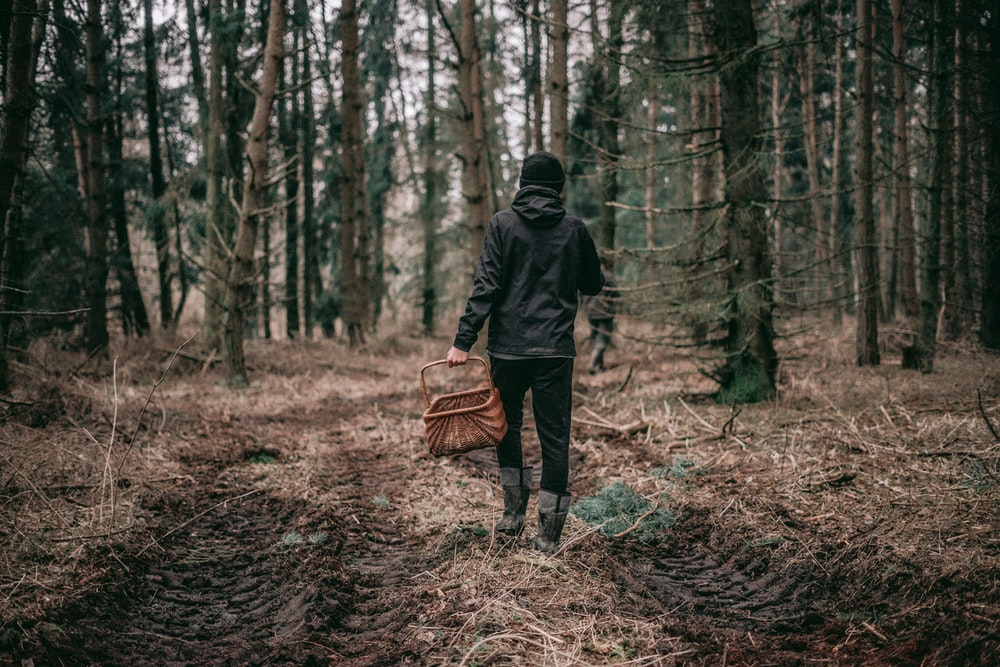Person: (449, 149, 611, 557)
